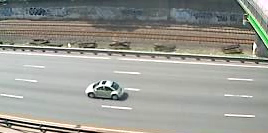car: (83, 77, 127, 102)
